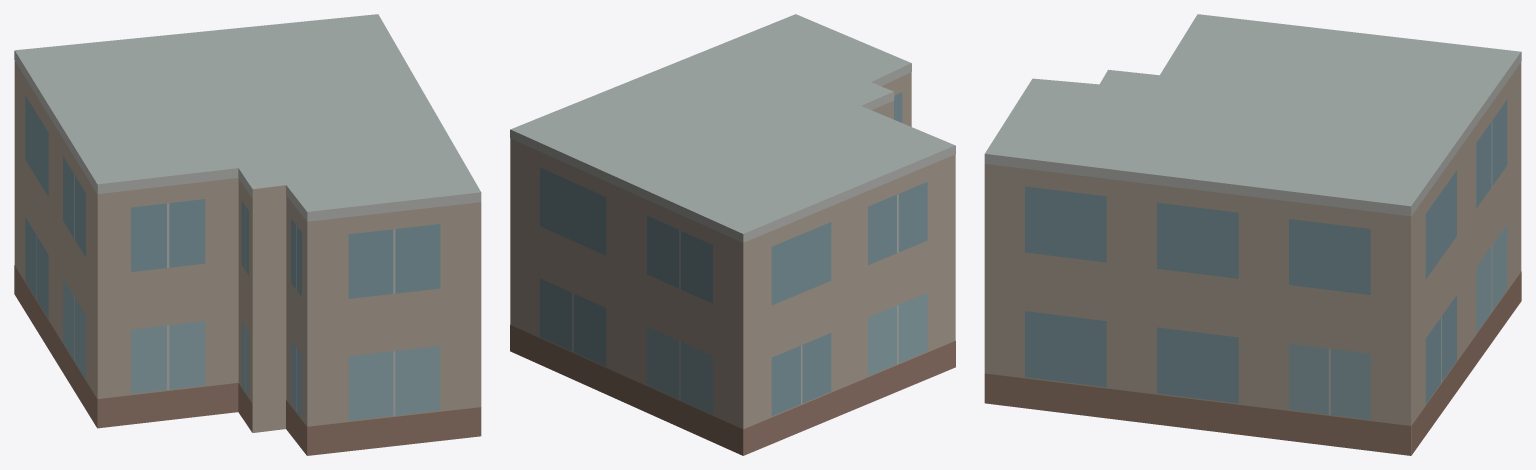
Rendered from survey-upis-32671758.glb.
3 views of the same model, side by side, from view 1: azimuth 30°, elevation 25°; view 2: azimuth 150°, elevation 25°; view 3: azimuth 270°, elevation 25° (orthographic). The views are drawn at different scales.
Parts seen in each view (by area): view 1: survey-upis-32671758.tmp; view 2: survey-upis-32671758.tmp; view 3: survey-upis-32671758.tmp.
Part boxes in pixels (x1,y1,x2,y2): survey-upis-32671758.tmp: [14, 14, 481, 455]; survey-upis-32671758.tmp: [510, 14, 955, 455]; survey-upis-32671758.tmp: [984, 14, 1521, 455].
Bounding box in the file's own units: 10.1 × 6.1 × 11.9.
